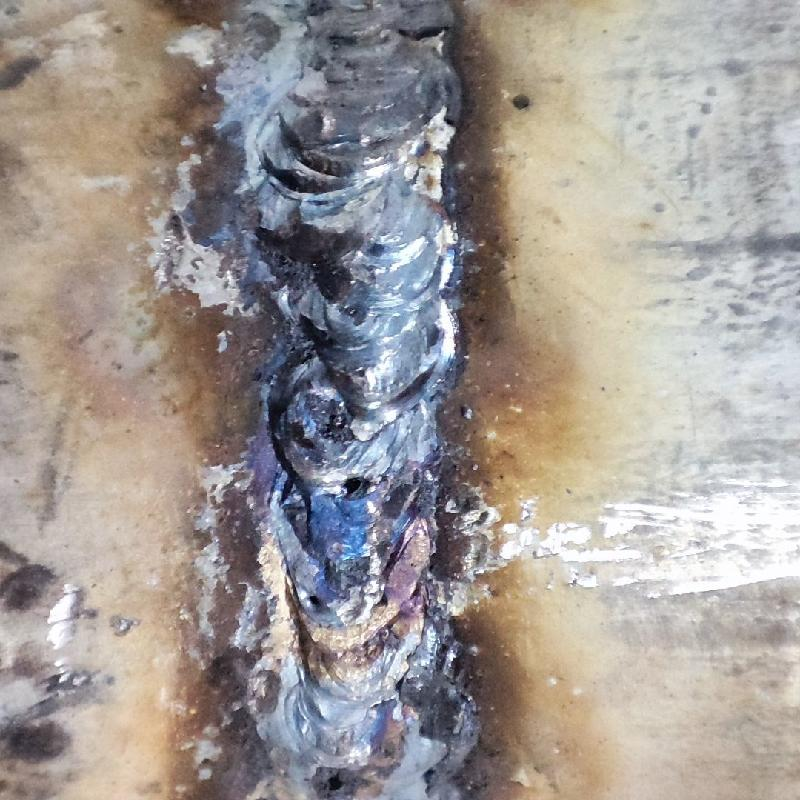Surface_pores: (325, 462, 388, 515), (295, 584, 336, 620), (315, 766, 355, 796)
good: (220, 0, 517, 799)
